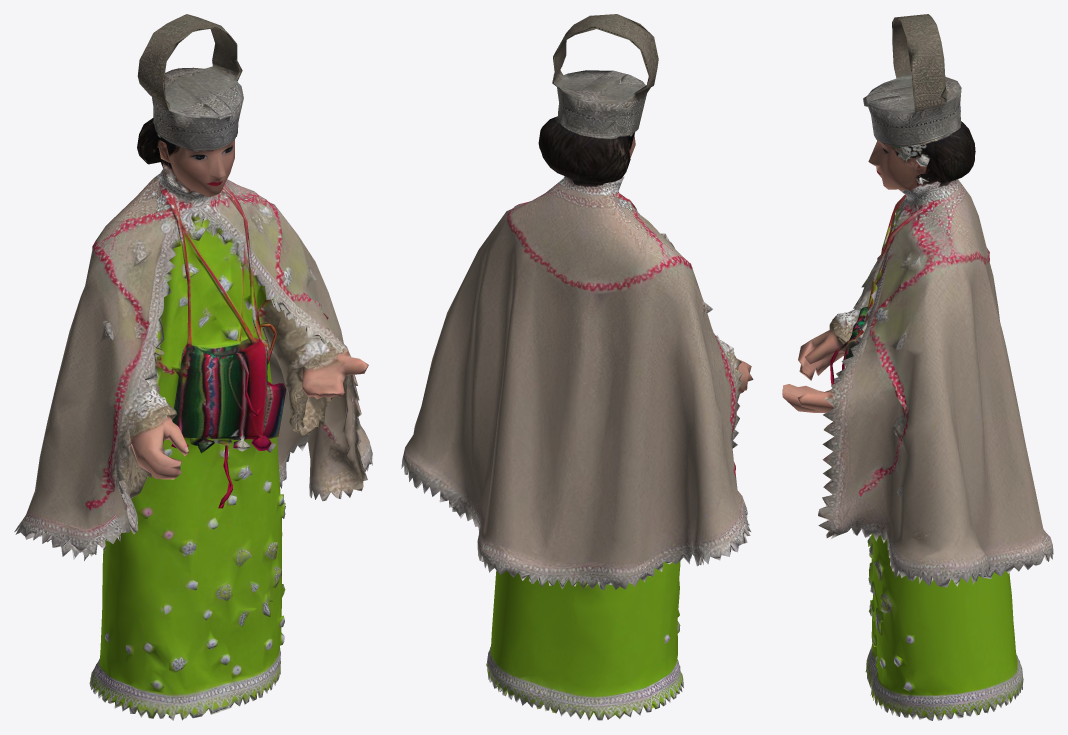
Rendered from santo3.glb.
The picture shows the model from 3 angles, left to right: view 1: azimuth 30°, elevation 25°; view 2: azimuth 150°, elevation 25°; view 3: azimuth 270°, elevation 25°; orthographic projection.
Visible parts, largest first — view 1: tripo_node_c12f3363-efe0-4420-9f45-5c10fef9bf1e; view 2: tripo_node_c12f3363-efe0-4420-9f45-5c10fef9bf1e; view 3: tripo_node_c12f3363-efe0-4420-9f45-5c10fef9bf1e.
Boxes of the visible parts, left/top/right/bottom form: tripo_node_c12f3363-efe0-4420-9f45-5c10fef9bf1e: left=14, top=14, right=372, bottom=720; tripo_node_c12f3363-efe0-4420-9f45-5c10fef9bf1e: left=401, top=14, right=753, bottom=720; tripo_node_c12f3363-efe0-4420-9f45-5c10fef9bf1e: left=782, top=14, right=1053, bottom=720.
Bounding box in the file's own units: 2.97 × 5.58 × 2.08.
1 material, 1 textured.
